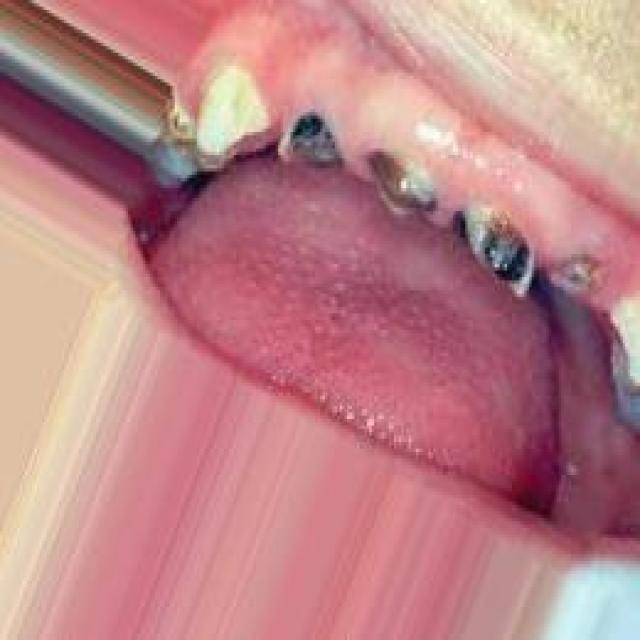caries: (445, 194, 543, 306), (263, 97, 354, 184), (363, 134, 445, 229), (548, 247, 611, 310)
